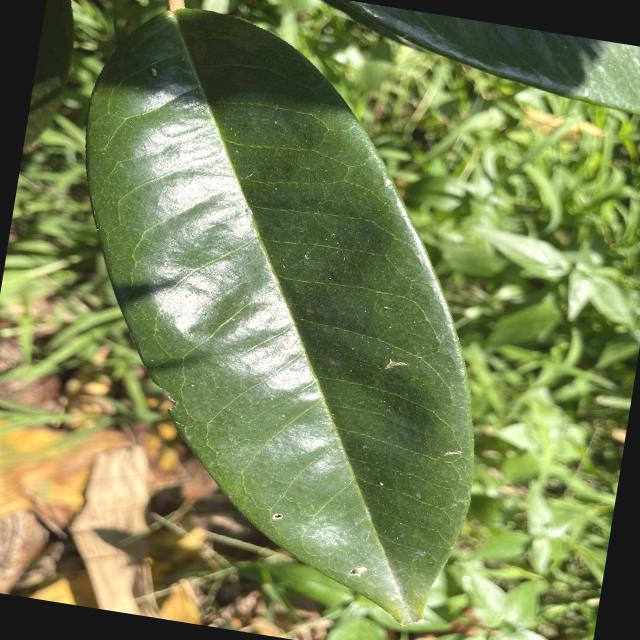No Disease: (4, 0, 552, 639)
